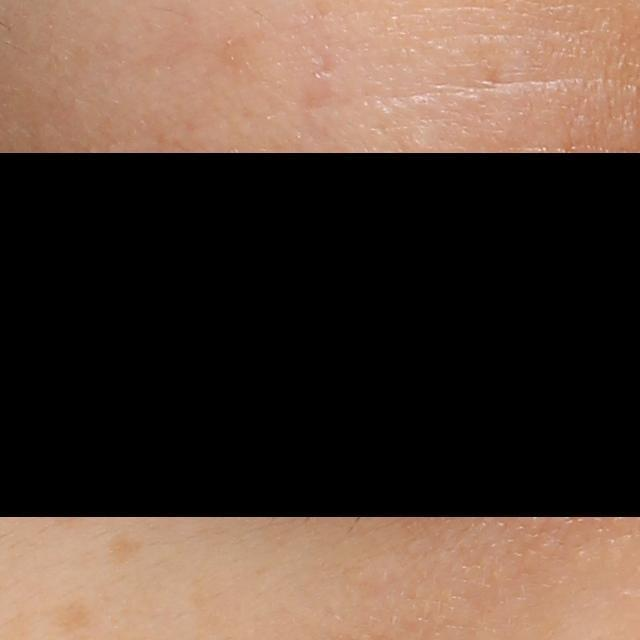melasma: (35, 594, 98, 637), (100, 531, 148, 570)
